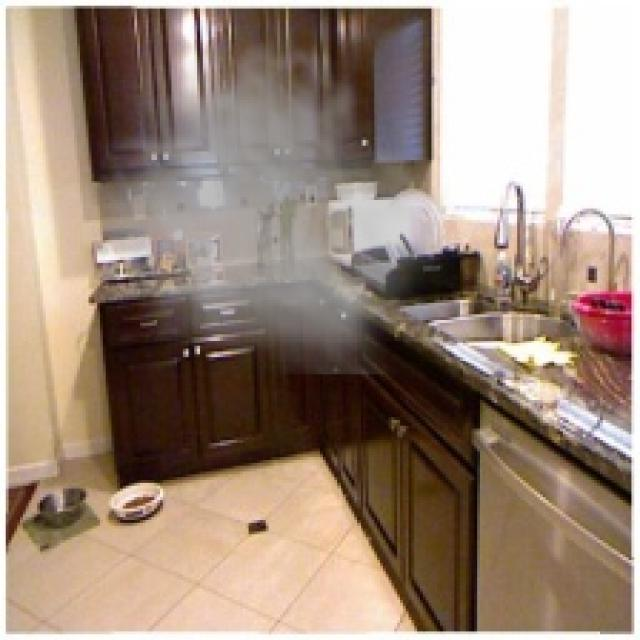smoke: (77, 0, 461, 375)
